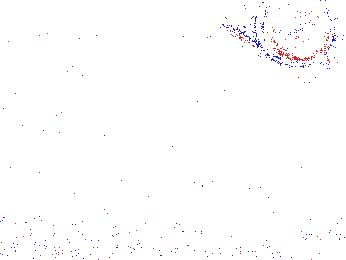moon jellyfish: (253, 1, 336, 68), (253, 38, 326, 92), (50, 11, 100, 77), (204, 27, 262, 79), (28, 1, 115, 25), (1, 19, 23, 80)
